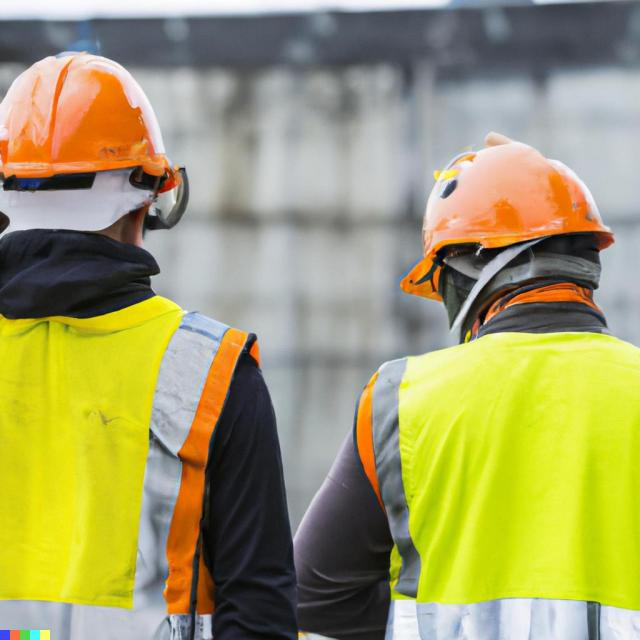Reflective-Jacket: (0, 253, 266, 637), (354, 329, 634, 616)
Safety-Helmet: (400, 134, 615, 300), (0, 48, 184, 191)
